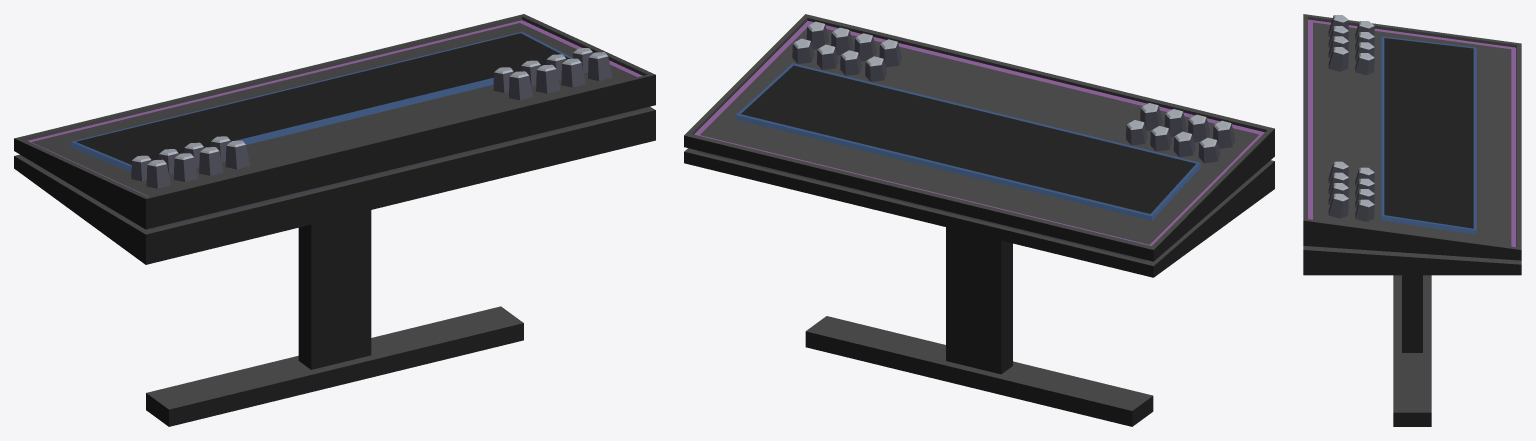
Rendered from base_console.glb.
The picture shows the model from 3 angles, left to right: view 1: azimuth 30°, elevation 25°; view 2: azimuth 150°, elevation 25°; view 3: azimuth 270°, elevation 25°; orthographic projection. The views are drawn at different scales.
Parts seen in each view (by area): view 1: Base; view 2: Base; view 3: Base.
Part boxes in pixels (bbox=[...]): Base: bbox=[14, 14, 655, 426]; Base: bbox=[684, 14, 1274, 426]; Base: bbox=[1303, 14, 1521, 426].
Size of what is drawn, in the model's own units: 2.28 by 1.28 by 1.02.
Materials: 2 (2 with a texture image).
